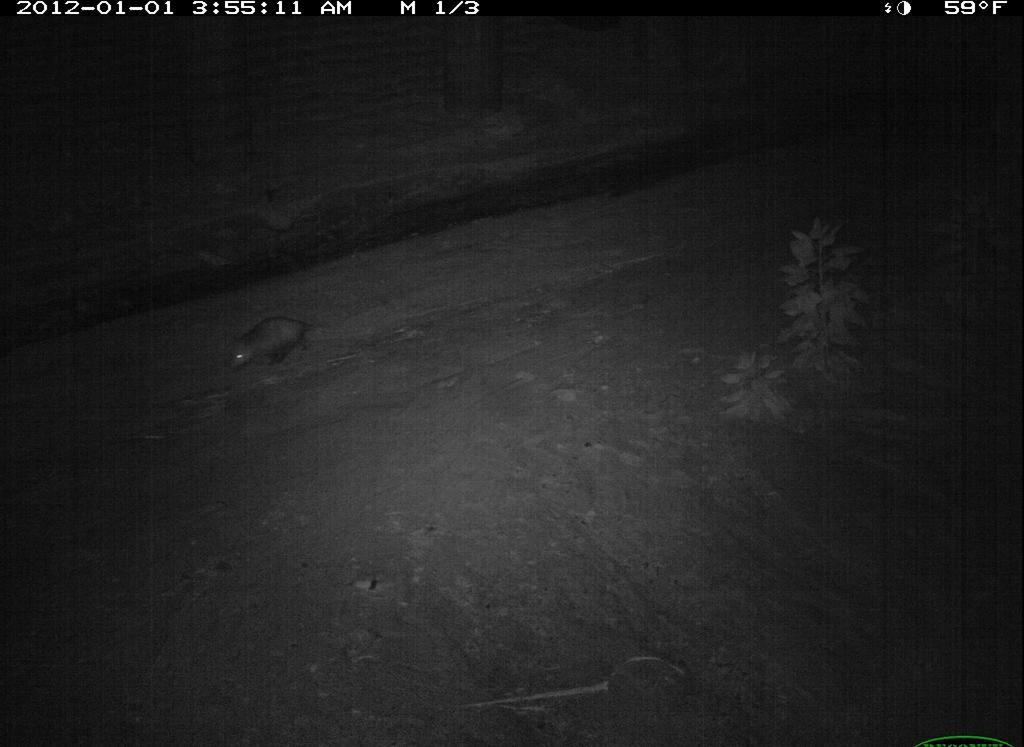opossum: (220, 303, 326, 388)
